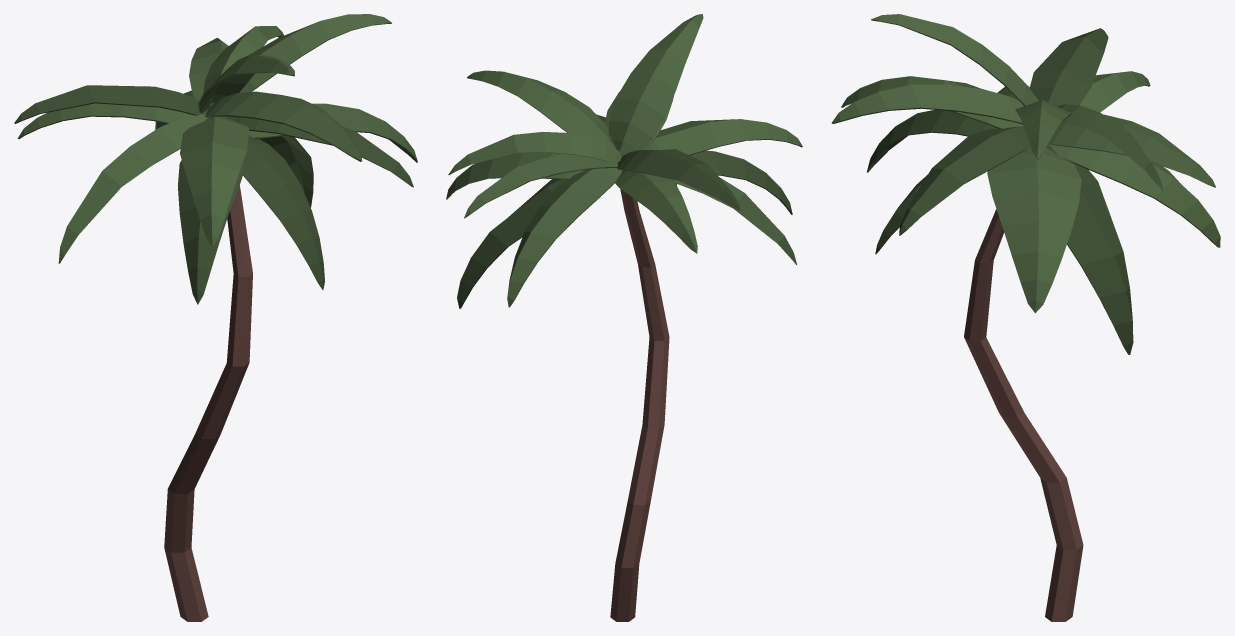
The model's file is PalmTree_1.gltf.
3 views of the same model, side by side, from view 1: azimuth 30°, elevation 25°; view 2: azimuth 150°, elevation 25°; view 3: azimuth 270°, elevation 25° (orthographic). The views are drawn at different scales.
Parts seen in each view (by area): view 1: PalmTree_1; view 2: PalmTree_1; view 3: PalmTree_1.
Boxes of the visible parts, x1=… form: PalmTree_1: x1=14, y1=14, x2=417, y2=621; PalmTree_1: x1=446, y1=14, x2=802, y2=621; PalmTree_1: x1=831, y1=14, x2=1220, y2=621.
Size of the model in its own units: 2.88 by 4.47 by 2.61.
